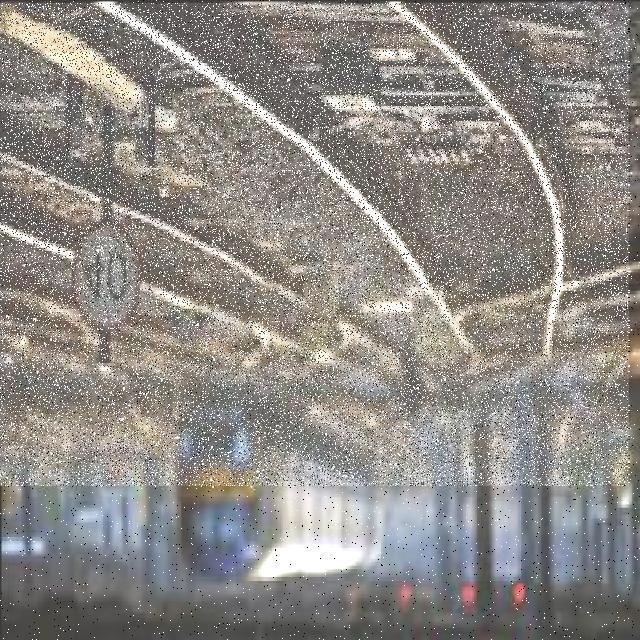rail: (1, 4, 630, 487)
